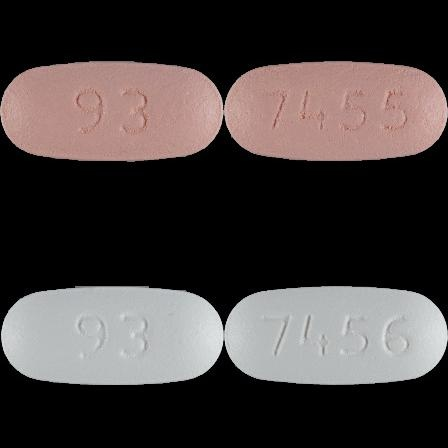0093-7455: (0, 0, 224, 224)
